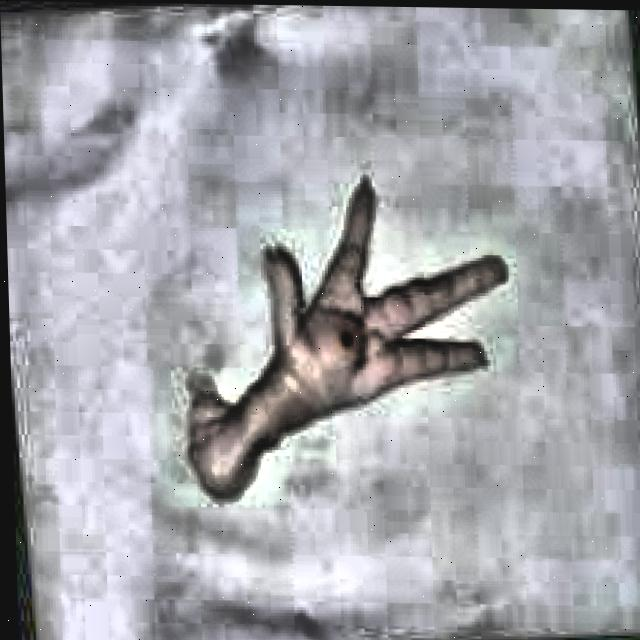Bumble foot: (170, 174, 512, 506)
